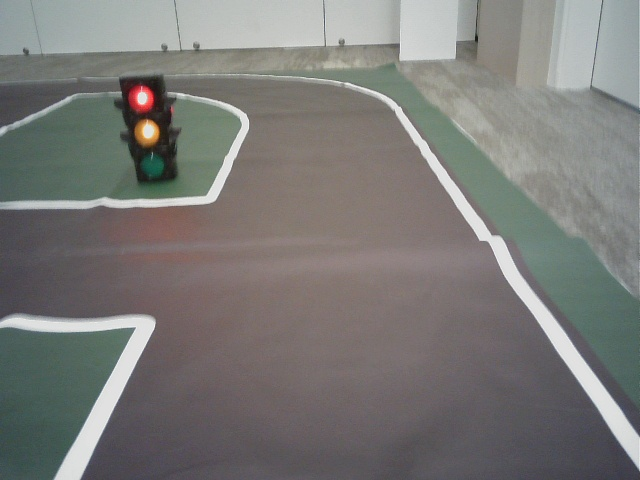red: (125, 81, 169, 180)
